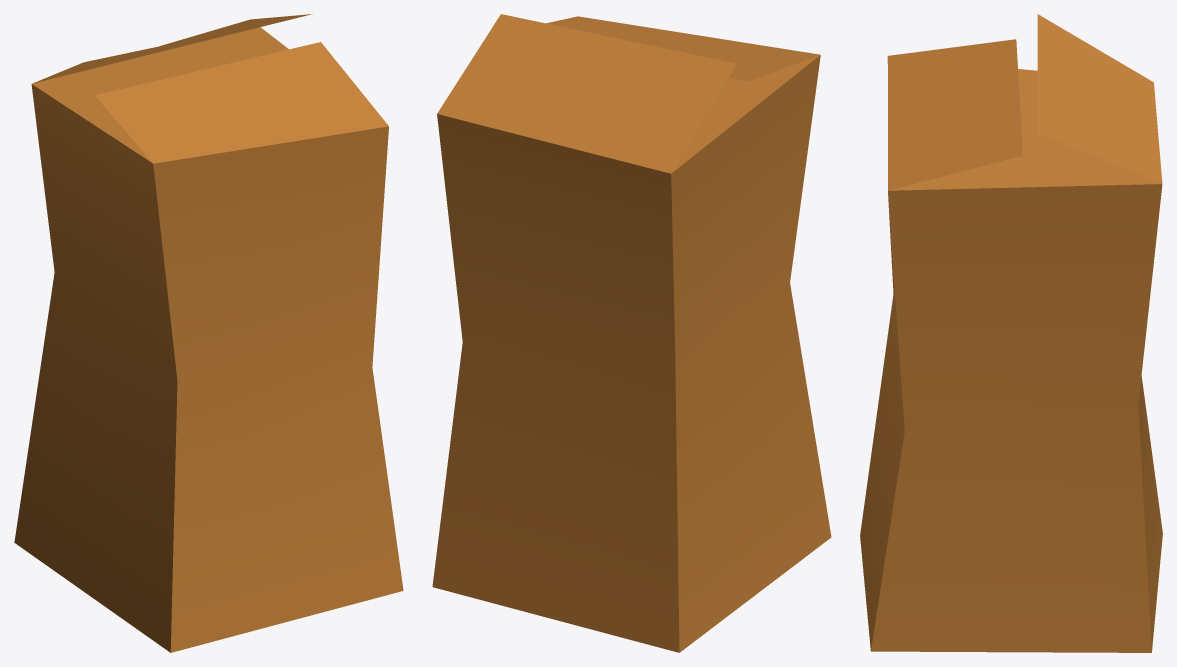
Rendered from ticket_box_tall.fbx.
The picture shows the model from 3 angles, left to right: view 1: azimuth 30°, elevation 25°; view 2: azimuth 150°, elevation 25°; view 3: azimuth 270°, elevation 25°; orthographic projection. The views are drawn at different scales.
Visible parts, largest first — view 1: ticket_box_tall; view 2: ticket_box_tall; view 3: ticket_box_tall.
Boxes of the visible parts, <box> form: ticket_box_tall: <box>14,14,403,652</box>; ticket_box_tall: <box>432,14,831,652</box>; ticket_box_tall: <box>860,14,1162,652</box>.
Bounding box in the file's own units: 99.25 × 203 × 106.
